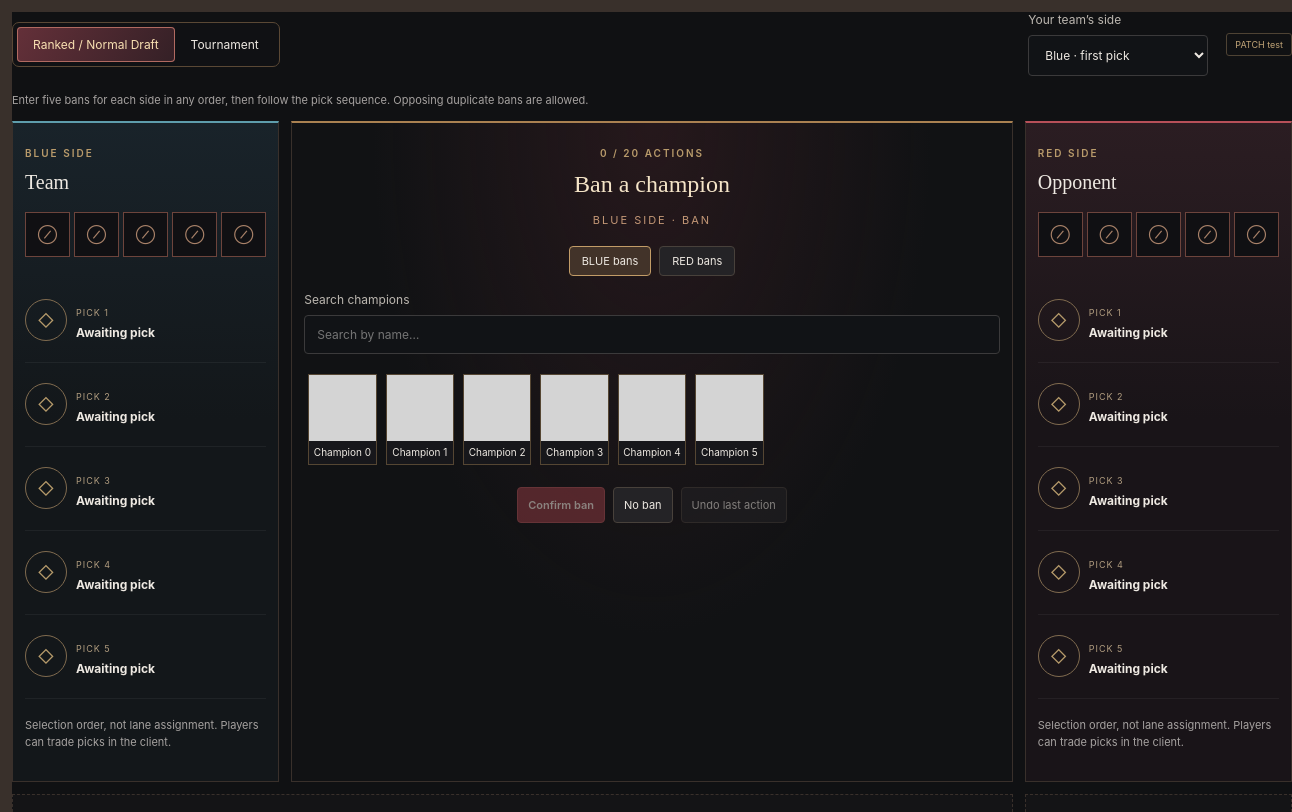
Scenario: manual ban confirmation still works after the recommendation endpoint fails
Click the button "Champion 0". click: (342, 419)
box: [308,374,377,465]
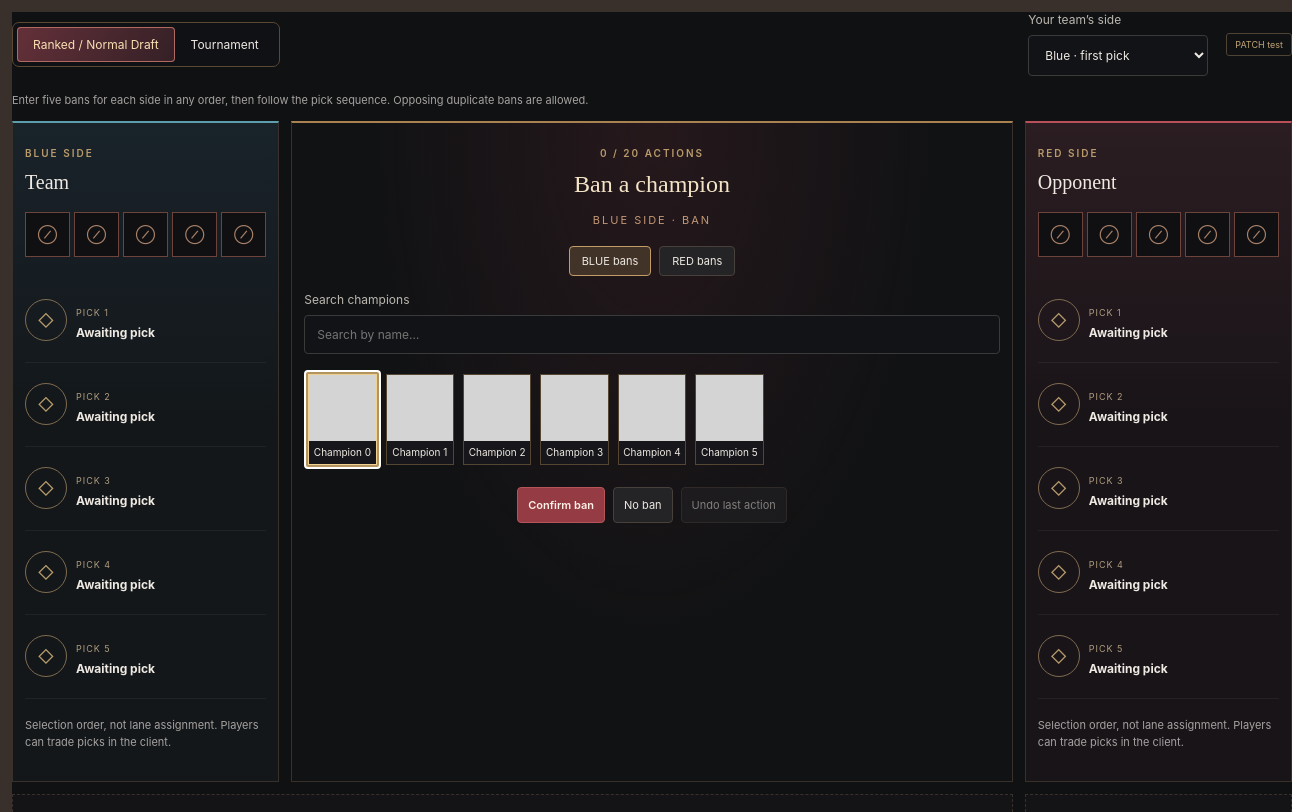
Click the button "Confirm ban". click: (561, 505)
box: [517,487,605,523]
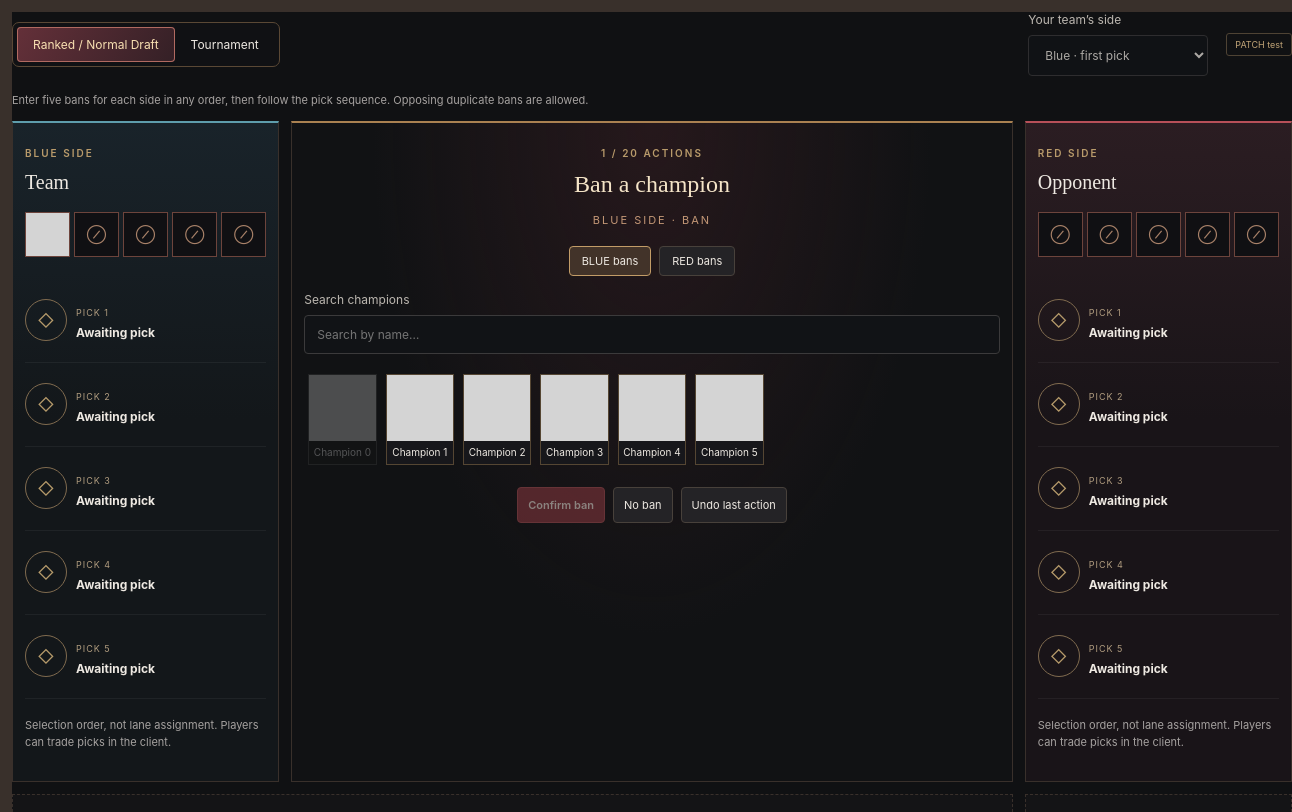
Result: the button "Undo last action" is enabled at [681,487,787,523]
